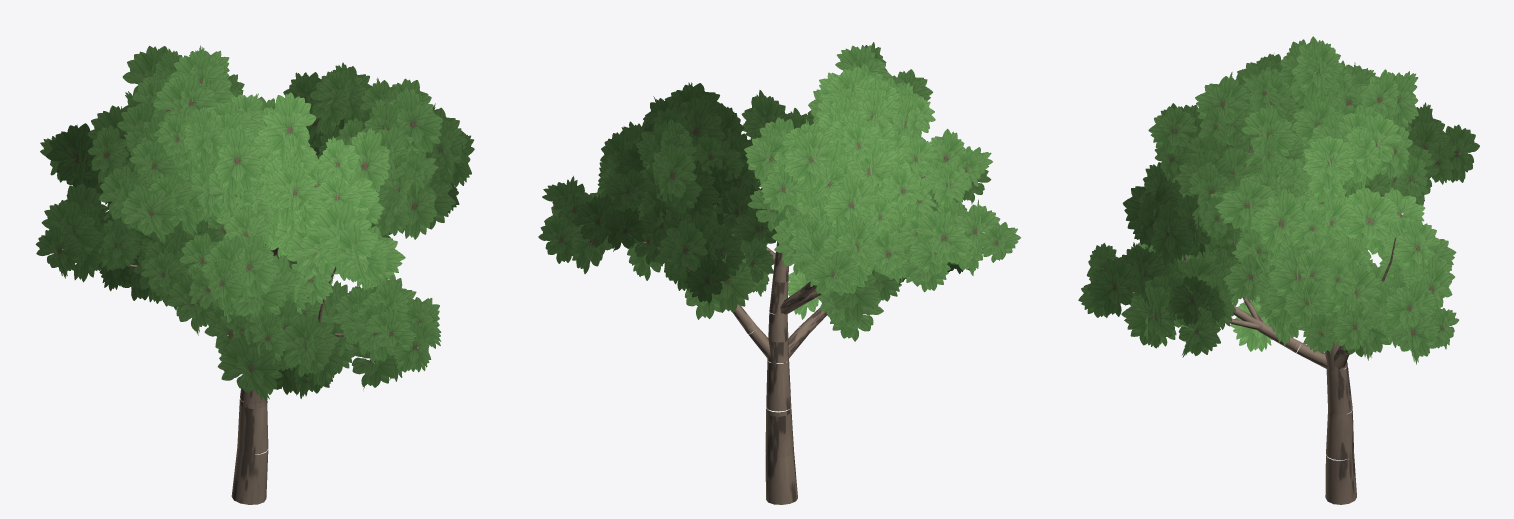
File: tree_a.gltf
3 renders of one model, left to right at view 1: azimuth 30°, elevation 25°; view 2: azimuth 150°, elevation 25°; view 3: azimuth 270°, elevation 25°, orthographic. The views are drawn at different scales.
Visible parts, largest first — view 1: Leaves, Trunk; view 2: Leaves, Trunk; view 3: Leaves, Trunk.
Boxes of the visible parts, x1,y1,x2,y2 form: Leaves: [35, 45, 474, 402]; Trunk: [126, 157, 349, 504]; Leaves: [538, 42, 1020, 341]; Trunk: [640, 176, 924, 504]; Leaves: [1078, 36, 1479, 364]; Trunk: [1132, 135, 1396, 504].
Size of the model in its own units: 11.39 by 11.13 by 9.85.
2 materials, 2 textured.
